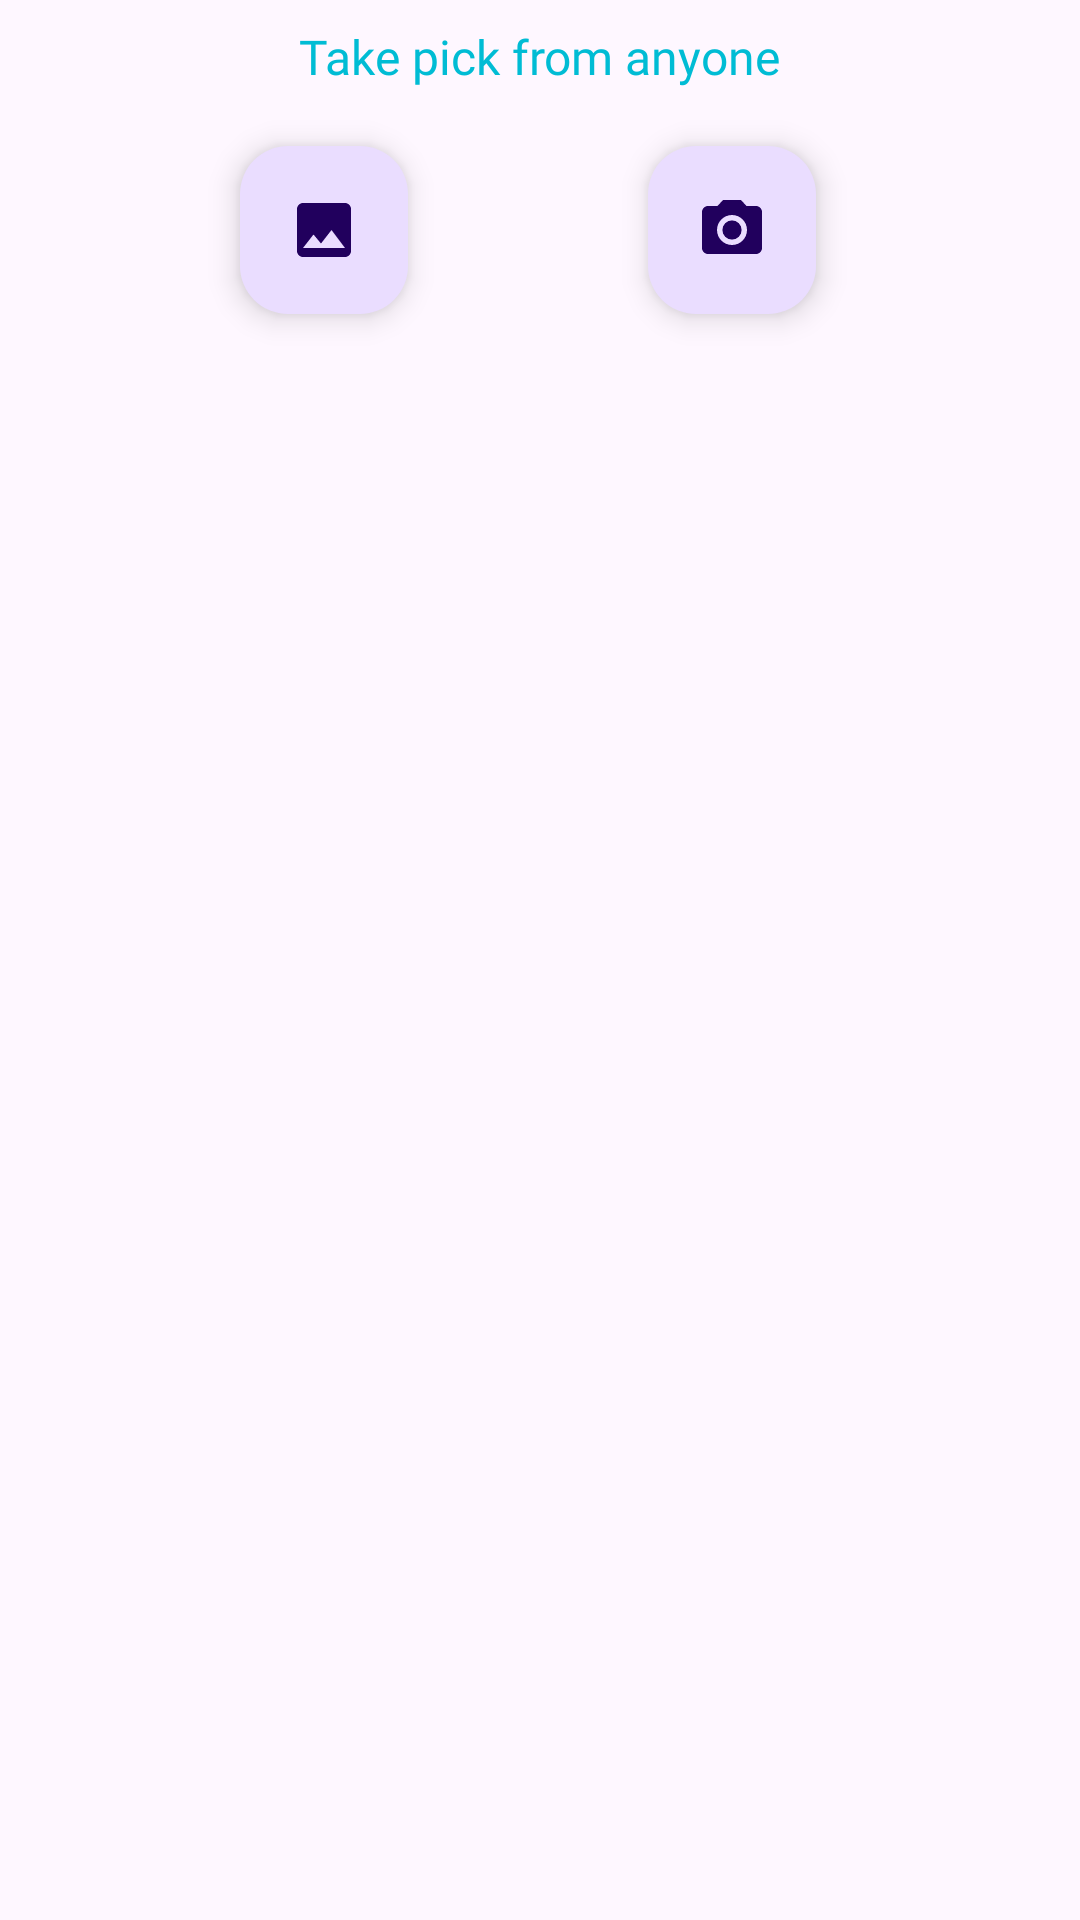

Where icons sit on this 1080*1920 app screen, as (x1, y1, x2, y2):
camera: (702, 200, 762, 254)
